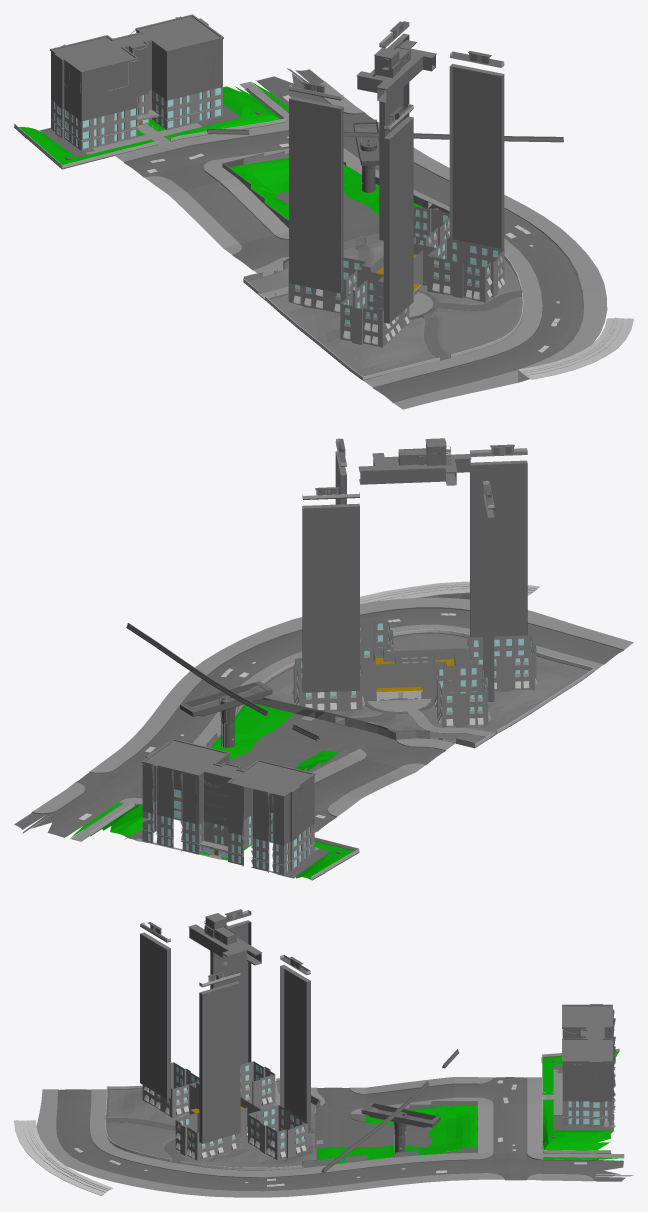
Rendered from brook_s2_14.FBX.
The picture shows the model from 3 angles, top to bottom: view 1: azimuth 30°, elevation 25°; view 2: azimuth 150°, elevation 25°; view 3: azimuth 270°, elevation 25°; orthographic projection. The views are drawn at different scales.
Parts seen in each view (by area): view 1: unnamed, null; view 2: unnamed, null; view 3: unnamed, null.
Boxes of the visible parts, x1,y1,x2,y2 form: unnamed: [14, 14, 563, 409]; null: [343, 21, 633, 384]; unnamed: [14, 438, 633, 880]; null: [178, 438, 540, 724]; unnamed: [36, 909, 633, 1194]; null: [14, 923, 330, 1197].
Size of the model in its own units: 128 by 85.55 by 230.
